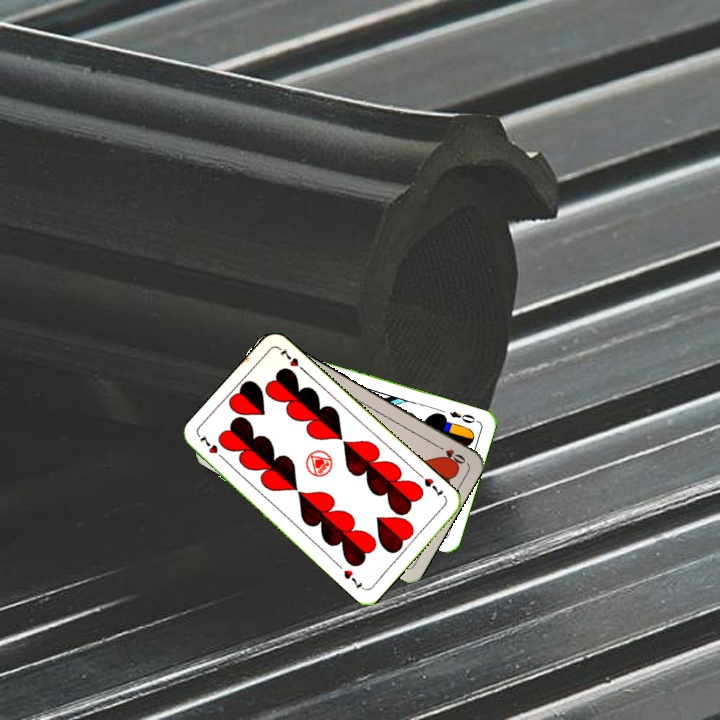EO: (445, 407, 481, 426)
H7: (196, 431, 228, 463), (420, 474, 446, 499)
HO: (431, 440, 468, 467)
